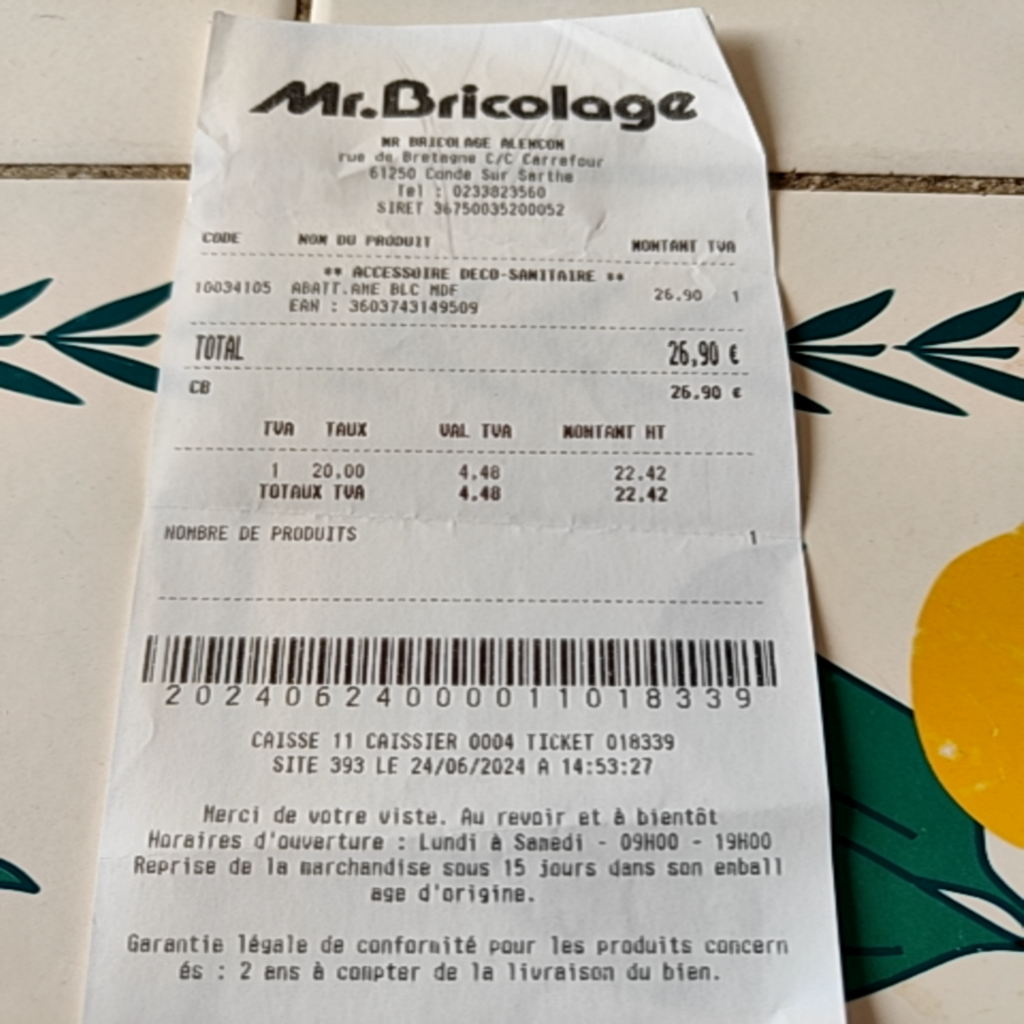recipt: (84, 6, 844, 1007)
